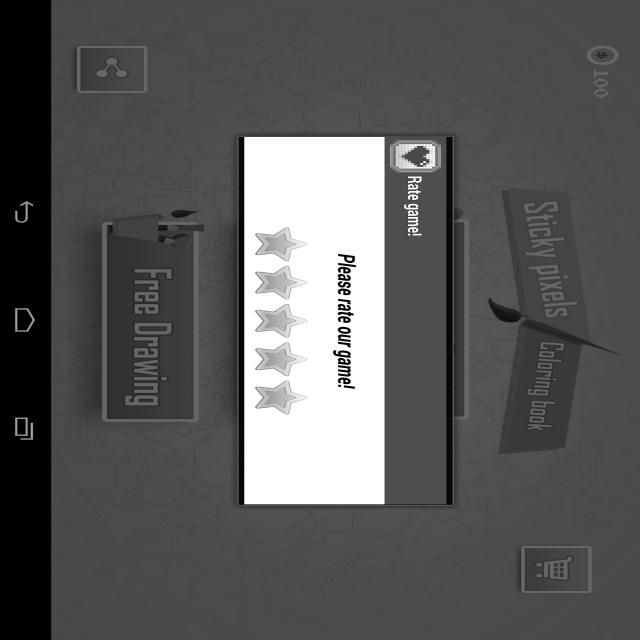ImageButton: (518, 543, 600, 592), (73, 46, 150, 93)
ImageView: (392, 142, 454, 172)
RatingBar: (249, 223, 311, 415)
TextView: (103, 266, 189, 415), (515, 194, 584, 317), (524, 329, 572, 435), (328, 251, 364, 392), (400, 172, 429, 242)
